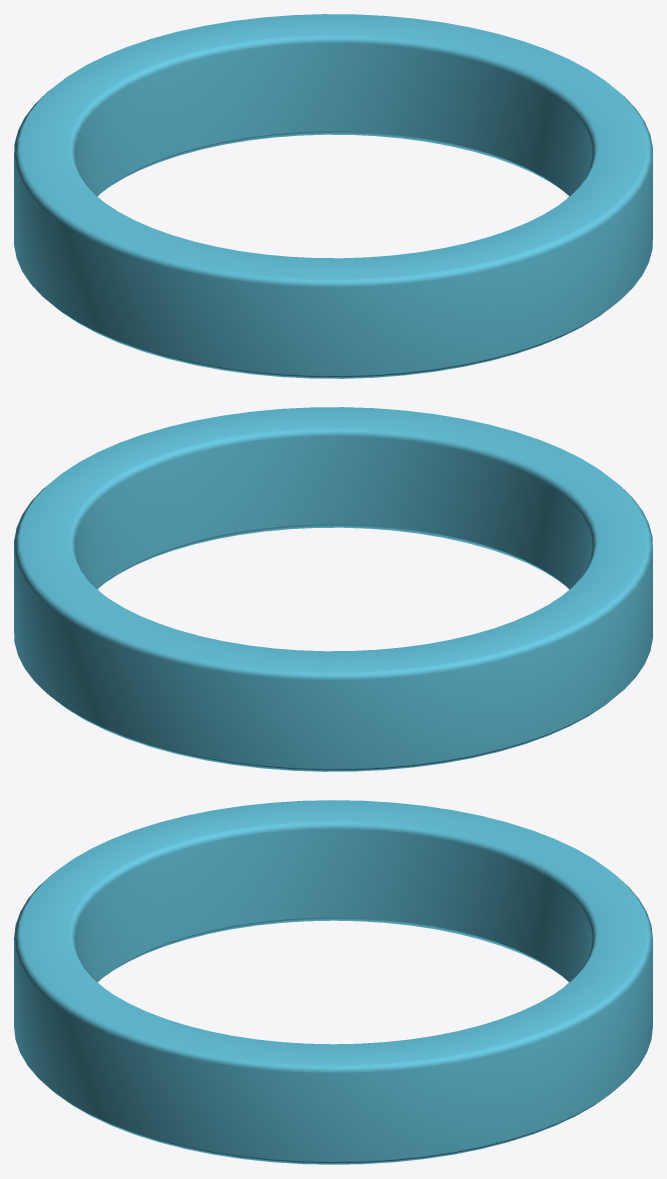
3 views of the same model, one above another, from view 1: azimuth 30°, elevation 25°; view 2: azimuth 150°, elevation 25°; view 3: azimuth 270°, elevation 25° (orthographic).
Visible parts, largest first — view 1: seal_body; view 2: seal_body; view 3: seal_body.
Part boxes in pixels (x1,y1,x2,y2): seal_body: [14, 14, 652, 378]; seal_body: [14, 407, 652, 771]; seal_body: [14, 800, 652, 1164].
Bounding box in the file's own units: 0.052 × 0.009 × 0.052.
